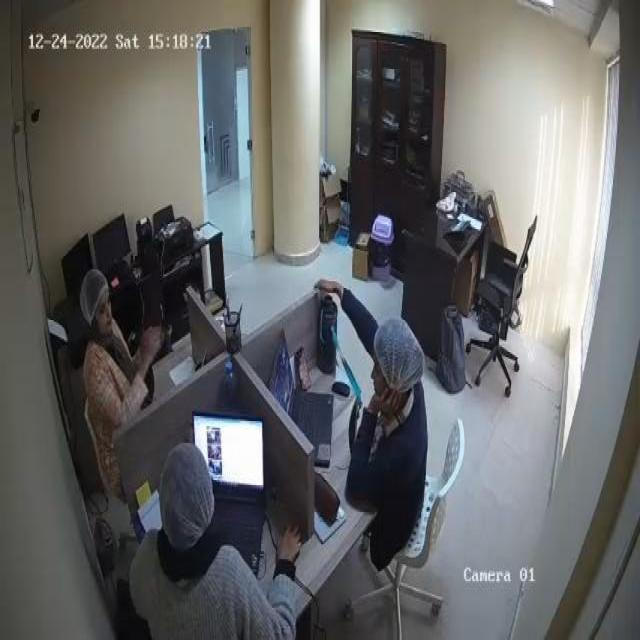bare_hand: (266, 520, 315, 586), (134, 317, 169, 369), (311, 273, 351, 310), (378, 387, 404, 426)
